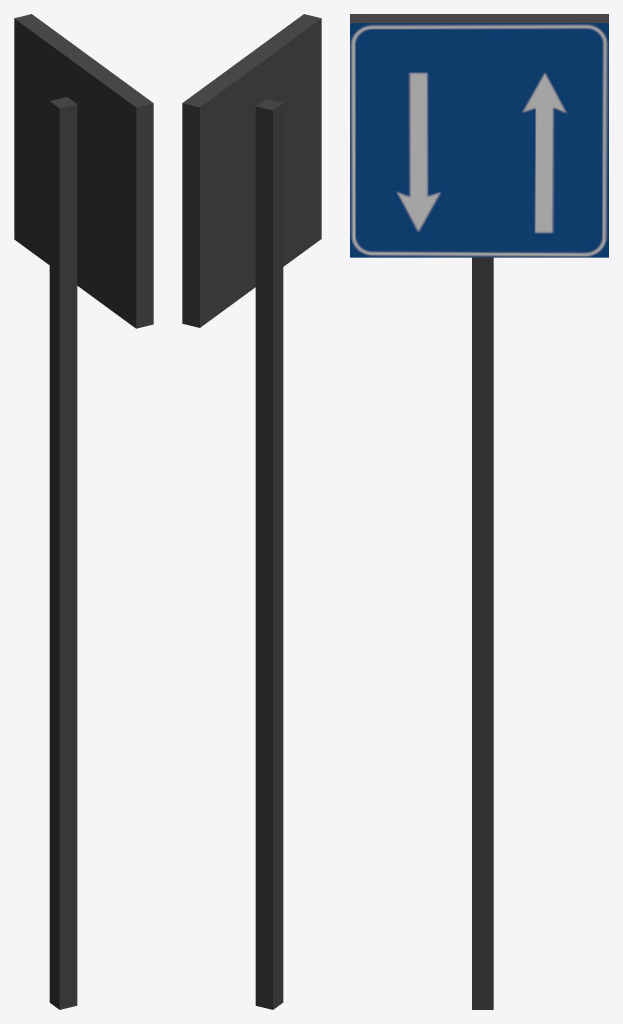
The model's file is iki_yonlu_levha.dae.
3 views of the same model, side by side, from view 1: azimuth 30°, elevation 25°; view 2: azimuth 150°, elevation 25°; view 3: azimuth 270°, elevation 25° (orthographic). The views are drawn at different scales.
Visible parts, largest first — view 1: Cube, Cube.004; view 2: Cube, Cube.004; view 3: Cube, Cube.004.
Boxes of the visible parts, bbox=[...] form: Cube: bbox=[14, 14, 153, 328]; Cube.004: bbox=[49, 97, 77, 1009]; Cube: bbox=[182, 14, 321, 327]; Cube.004: bbox=[255, 99, 283, 1009]; Cube: bbox=[350, 14, 608, 257]; Cube.004: bbox=[472, 257, 493, 1009].
Size of the model in its own units: 0.104 by 0.6 by 2.55.
3 materials, 1 textured.
